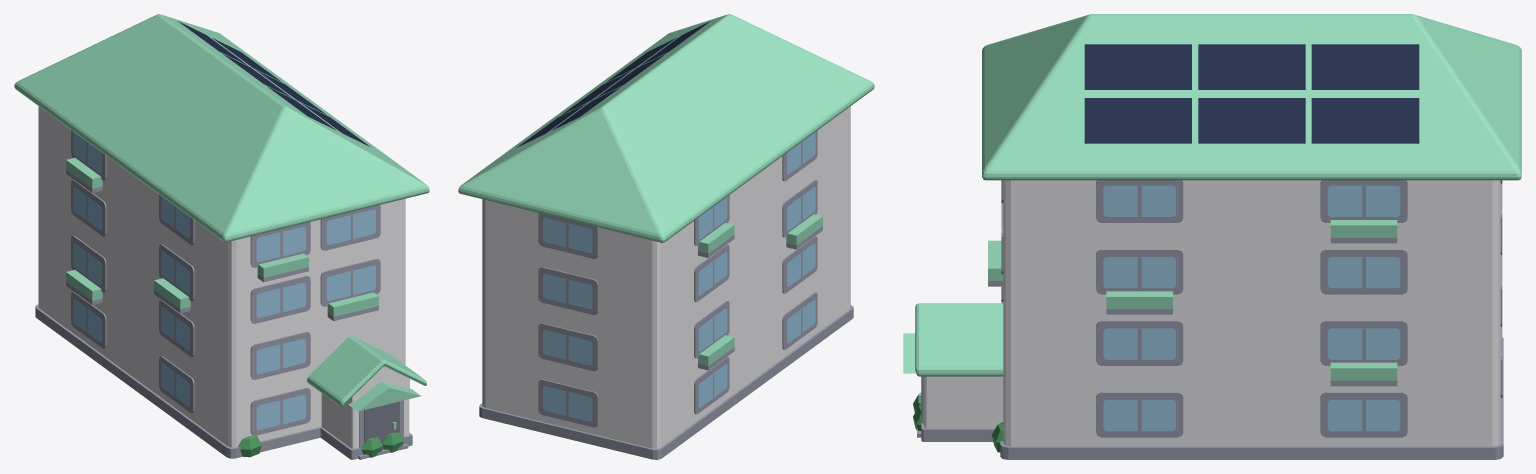
File: house-1x2-4f-mansard-a-solar.glb
3 views of the same model, side by side, from view 1: azimuth 30°, elevation 25°; view 2: azimuth 150°, elevation 25°; view 3: azimuth 270°, elevation 25° (orthographic). The views are drawn at different scales.
Parts seen in each view (by area): view 1: house-1x2-4f-mansard-a-solar; view 2: house-1x2-4f-mansard-a-solar; view 3: house-1x2-4f-mansard-a-solar.
Boxes of the visible parts, x1,y1,x2,y2 form: house-1x2-4f-mansard-a-solar: (14,14,429,459); house-1x2-4f-mansard-a-solar: (458,14,874,459); house-1x2-4f-mansard-a-solar: (903,14,1521,459).
Bounding box in the file's own units: 1 × 1.42 × 2.04.
Materials: 1 (1 with a texture image).
